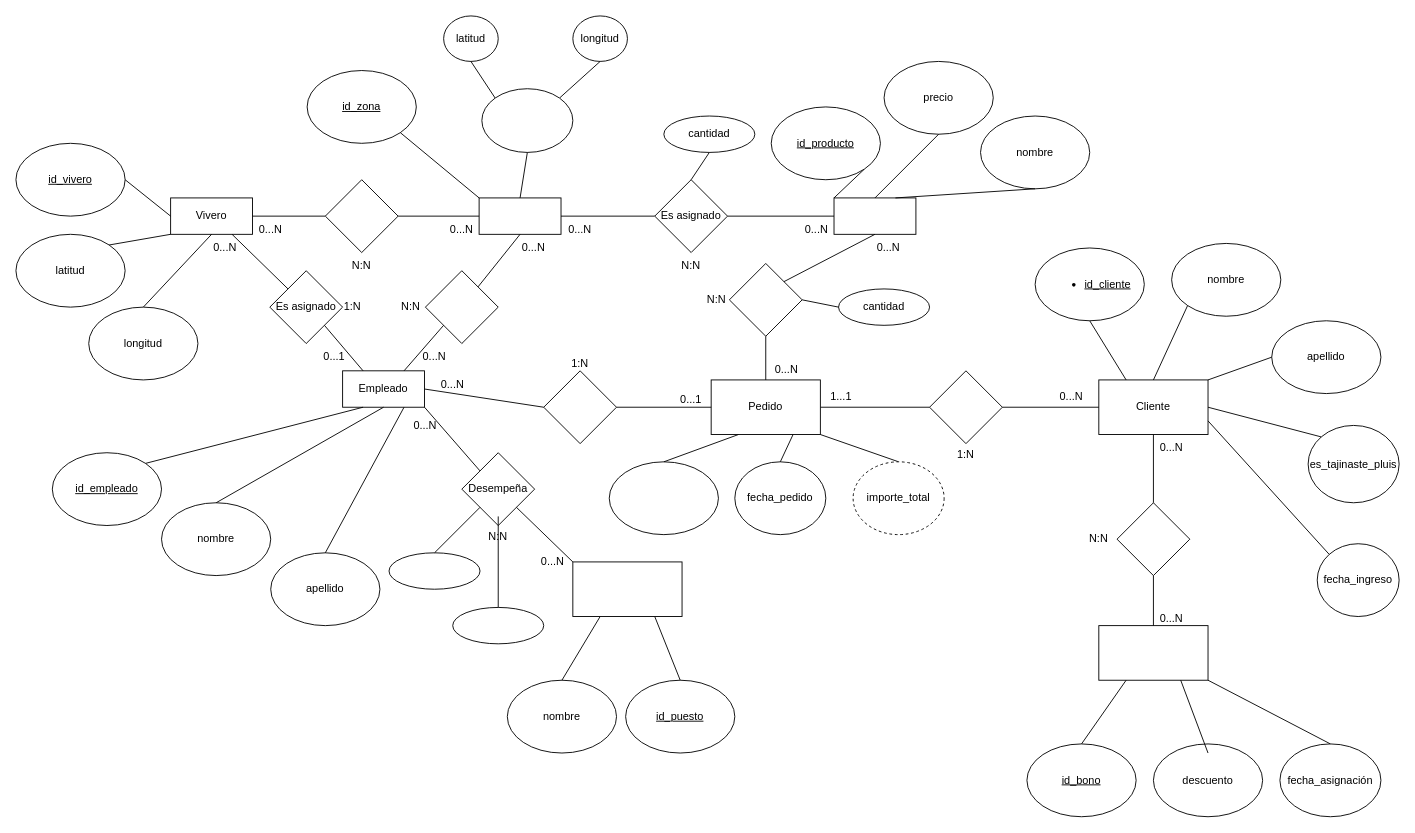
Image size: 1415x833. Some labels were removed from this diagram. Here are the shapes that lost their labels. From the top down, the box of each, then its label:
(481, 88, 573, 152): georreferenciación
(324, 179, 398, 253): Hay en
(478, 197, 561, 234): Zona
(833, 197, 916, 234): Producto
(425, 270, 498, 344): Hace tarea en
(728, 263, 802, 336): Tiene
(543, 370, 617, 444): Se encarga de
(929, 370, 1002, 444): Hace
(608, 461, 718, 535): id_pedido
(1116, 502, 1190, 576): Obtiene
(388, 552, 480, 589): fecha_inicio
(572, 561, 682, 617): Puesto
(452, 607, 544, 644): fecha_fin
(1098, 625, 1208, 680): Bonificación
